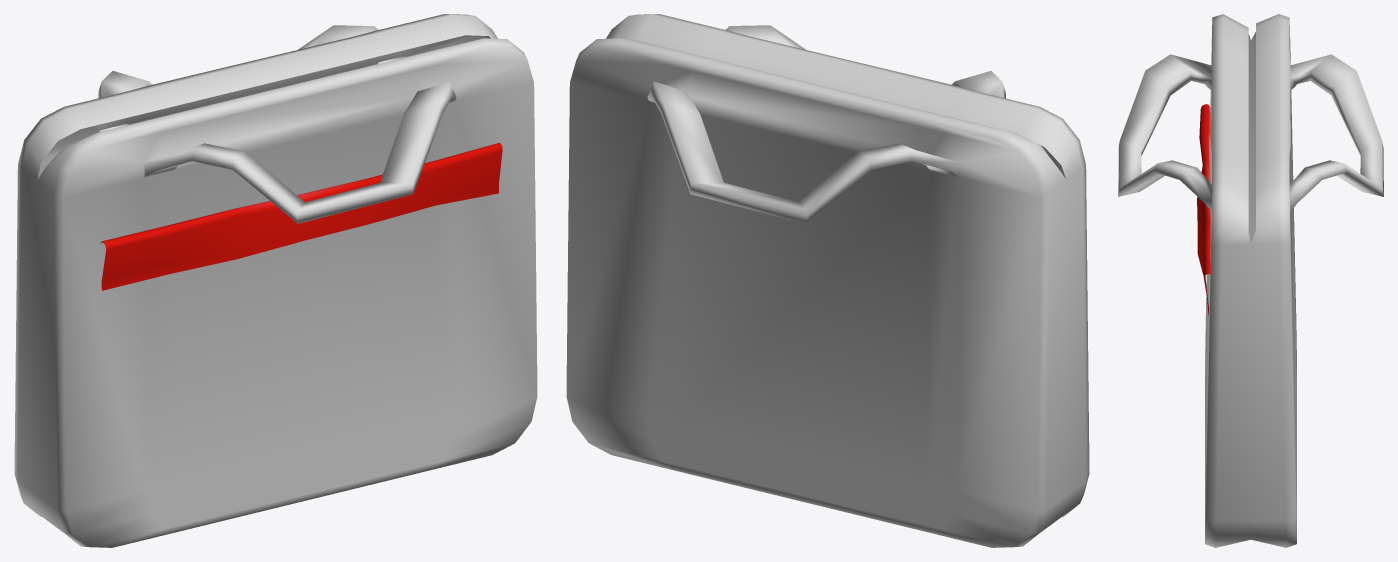
File: suitcase_open.fbx
3 views of the same model, side by side, from view 1: azimuth 30°, elevation 25°; view 2: azimuth 150°, elevation 25°; view 3: azimuth 270°, elevation 25° (orthographic). The views are drawn at different scales.
Parts seen in each view (by area): view 1: suitcase_open; view 2: suitcase_open; view 3: suitcase_open.
Part boxes in pixels (x1=…): suitcase_open: x1=14, y1=14, x2=537, y2=547; suitcase_open: x1=566, y1=14, x2=1089, y2=547; suitcase_open: x1=1118, y1=14, x2=1383, y2=547.
Bounding box in the file's own units: 39.96 × 33 × 22.01.
